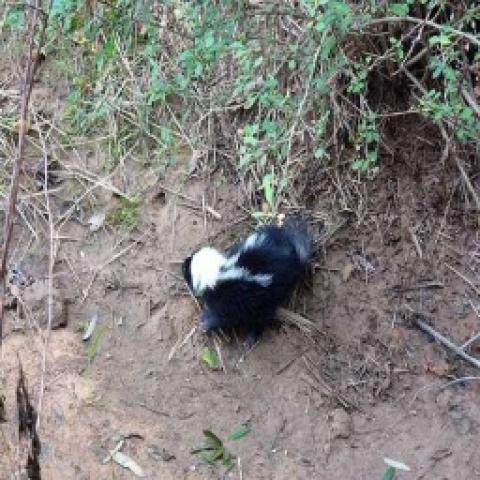small_animal: (178, 210, 317, 349)
